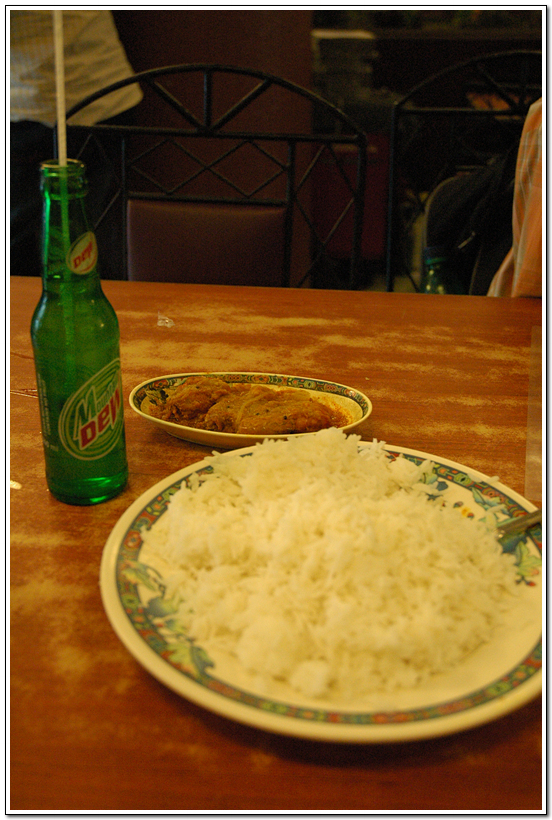plain rice: (186, 460, 479, 679)
